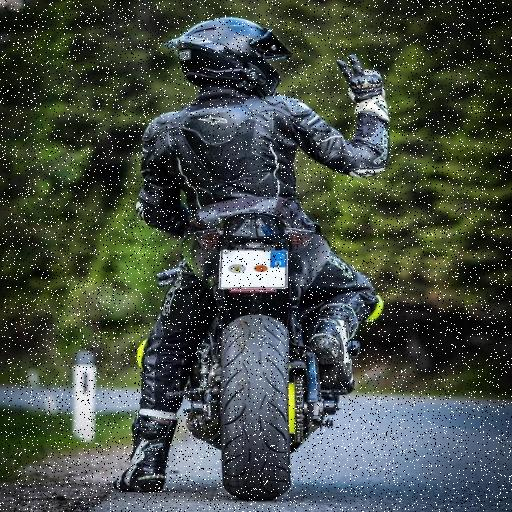Helmet: (159, 6, 293, 102)
Motor: (174, 194, 336, 500)
